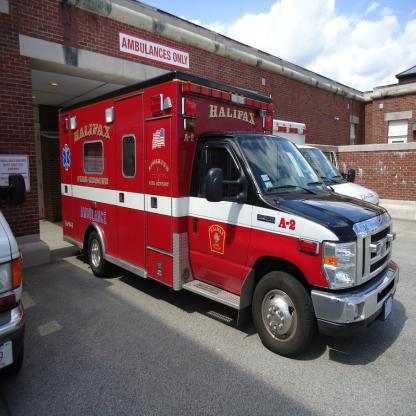truck: (61, 70, 398, 357)
